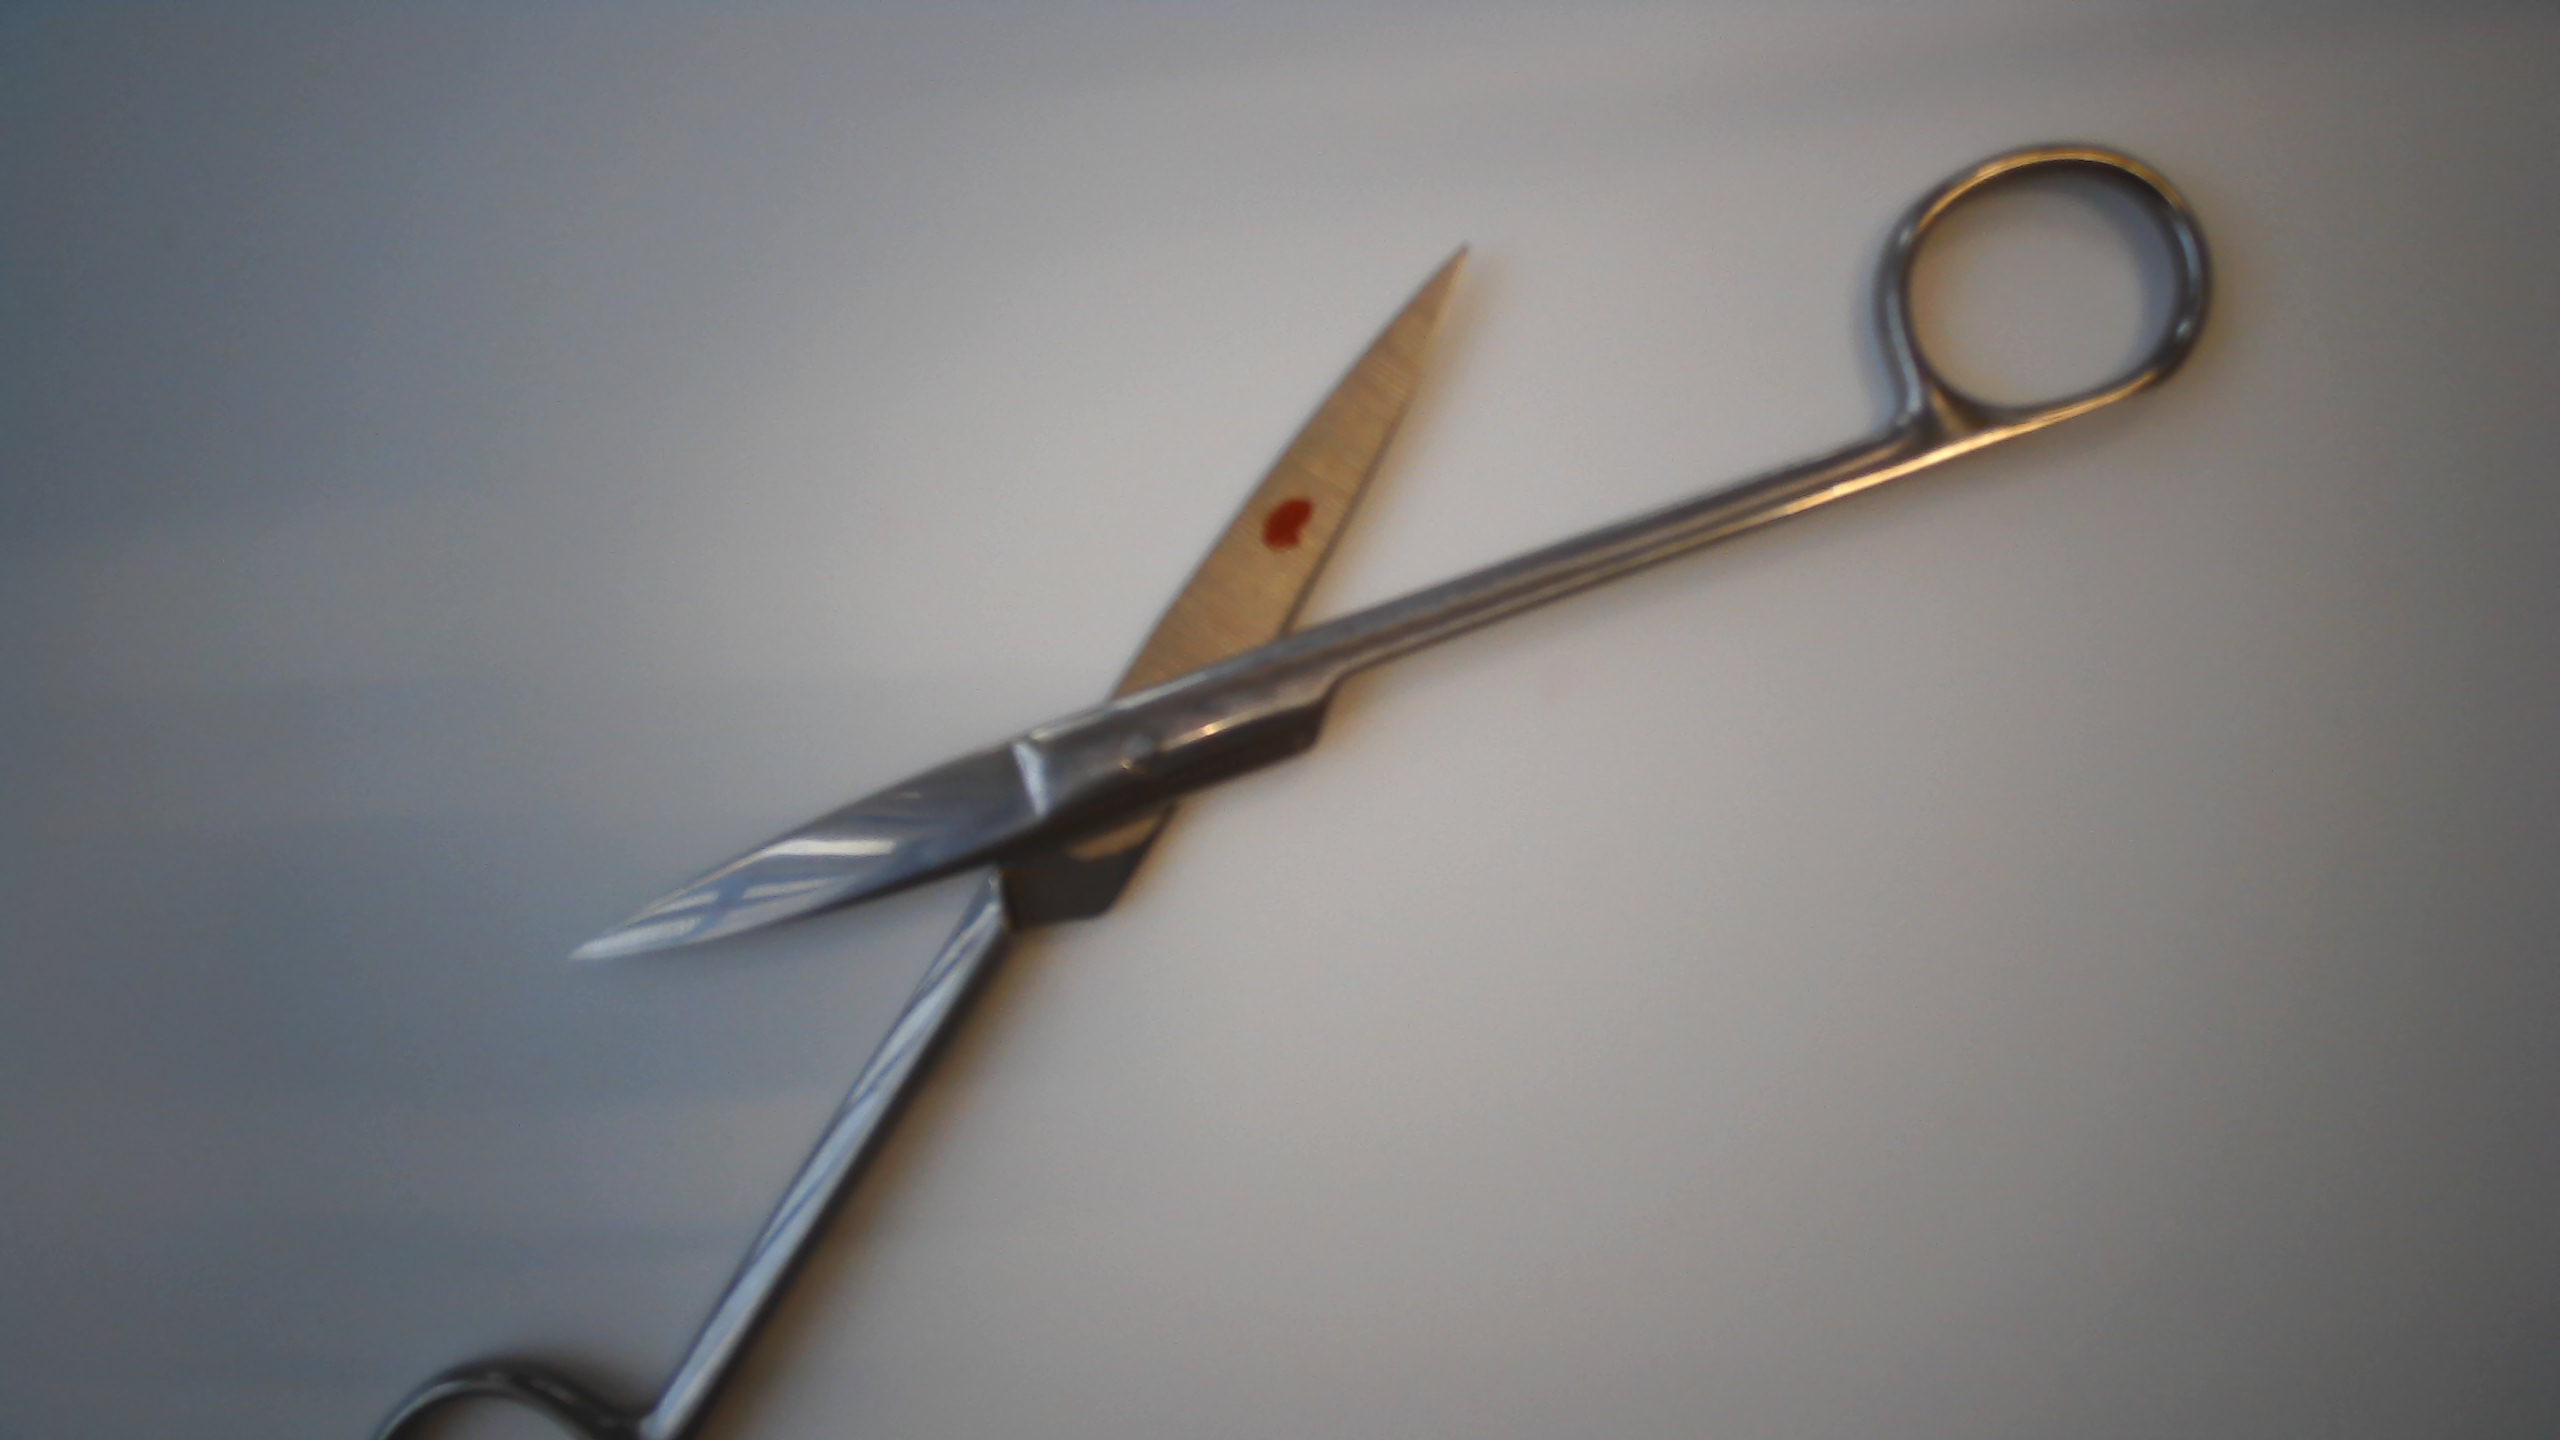Stain: (1245, 491, 1319, 564)
